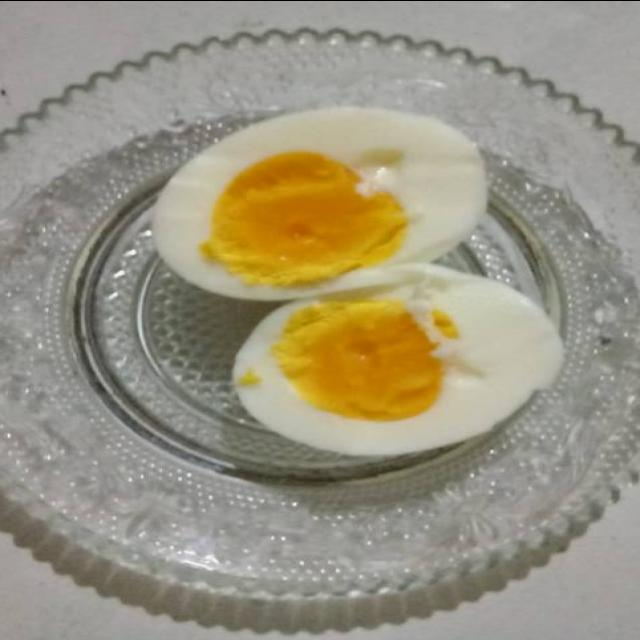telur rebus: (151, 104, 487, 302), (230, 265, 562, 456)
